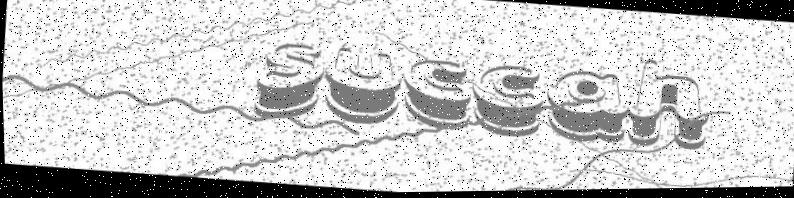a: (542, 70, 631, 148)
c: (468, 64, 547, 141), (398, 58, 475, 133)
h: (624, 60, 713, 154)
s: (252, 42, 327, 125)
u: (321, 46, 405, 128)
